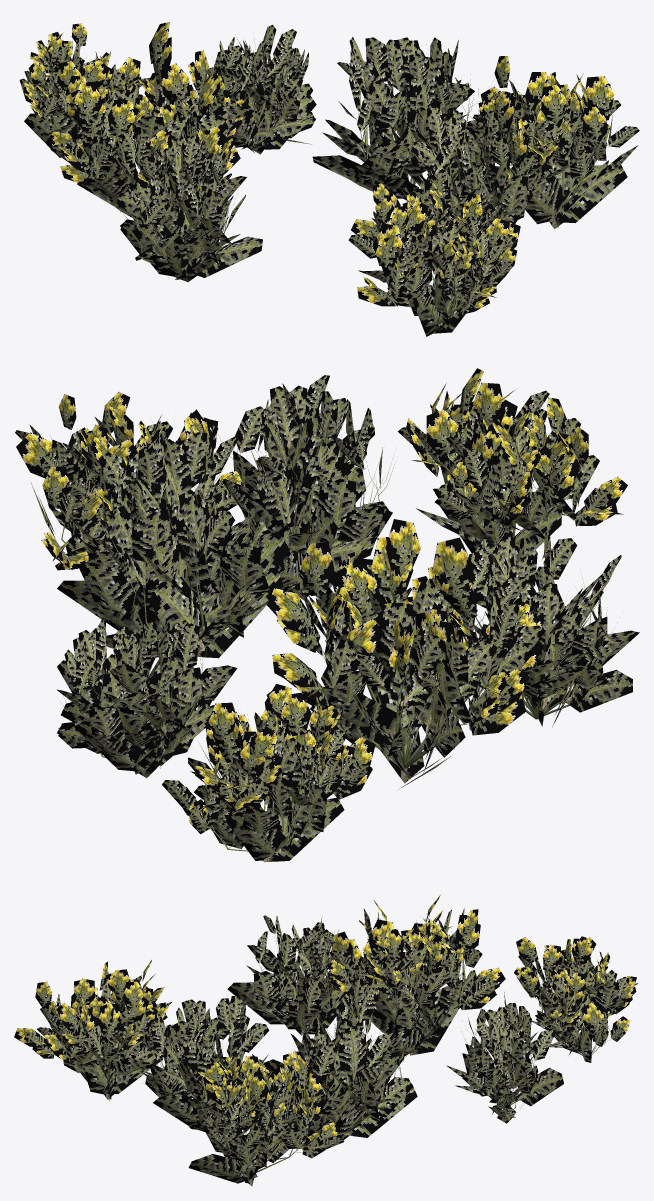
Rendered from Snakeweed_Desktop_Cluster_1-transformed.glb.
The picture shows the model from 3 angles, top to bottom: view 1: azimuth 30°, elevation 25°; view 2: azimuth 150°, elevation 25°; view 3: azimuth 270°, elevation 25°; orthographic projection. The views are drawn at different scales.
Visible parts, largest first — view 1: Snakeweed_Desktop_Cluster_1_LOD0; view 2: Snakeweed_Desktop_Cluster_1_LOD0; view 3: Snakeweed_Desktop_Cluster_1_LOD0.
Boxes of the visible parts, x1,y1,x2,y2 form: Snakeweed_Desktop_Cluster_1_LOD0: (19, 22, 639, 336); Snakeweed_Desktop_Cluster_1_LOD0: (15, 368, 639, 862); Snakeweed_Desktop_Cluster_1_LOD0: (14, 894, 637, 1186).
Bounding box in the file's own units: 4.18 × 1.46 × 5.38.
2 materials, 2 textured.
